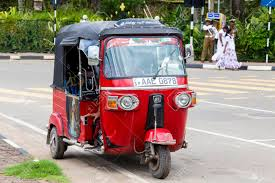tuk tuk: (44, 18, 199, 181)
